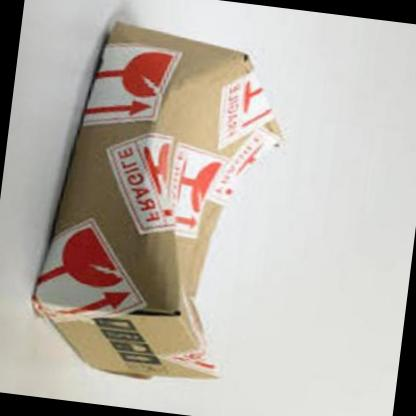box: (27, 13, 294, 394)
